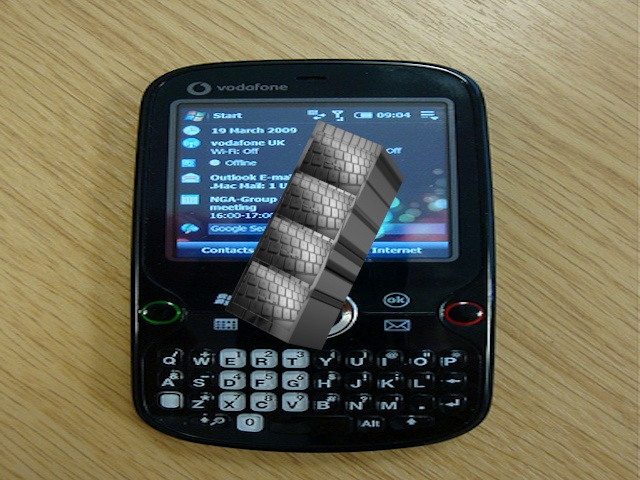file_cabinet: (225, 121, 408, 352)
